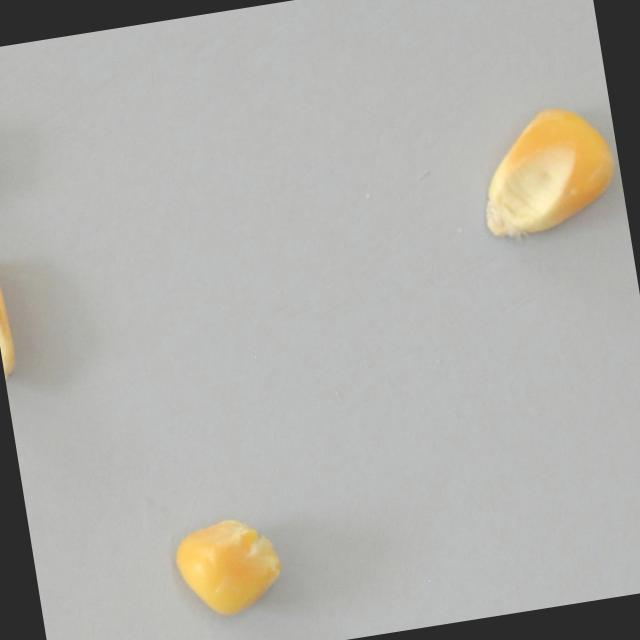entero: (463, 96, 629, 246), (0, 253, 23, 394)
pelicula: (170, 511, 290, 622)
